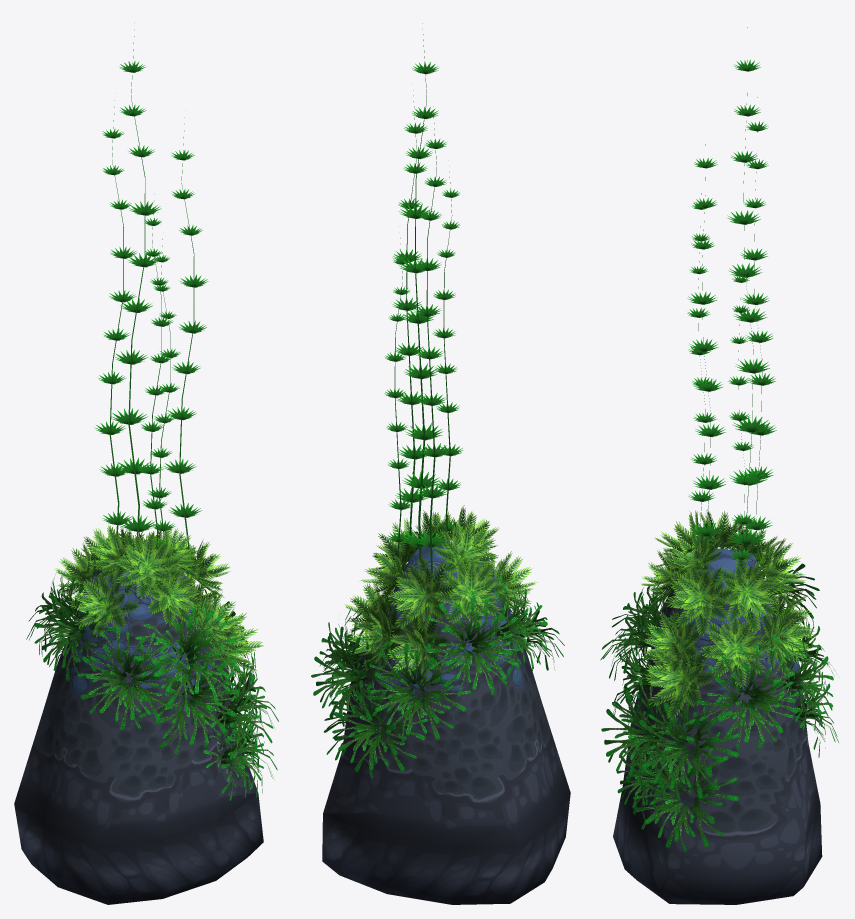
File: CoralSet_01.FBX
3 views of the same model, side by side, from view 1: azimuth 30°, elevation 25°; view 2: azimuth 150°, elevation 25°; view 3: azimuth 270°, elevation 25° (orthographic). The views are drawn at different scales.
Visible parts, largest first — view 1: Box022, CoralSet_01, Plane363, Plane365, Plane351, Plane362, Plane364, Plane349, Plane347, Plane343, Plane348, Plane358 (+4 smaller); view 2: Box022, CoralSet_01, Plane360, Plane359, Plane351, Plane352, Plane354, Plane347, Plane349, Plane364, Plane348, Plane350 (+2 smaller); view 3: Box022, CoralSet_01, Plane344, Plane345, Plane353, Plane343, Plane351, Plane349, Plane352, Plane347, Plane363, Plane348 (+7 smaller).
Part boxes in pixels (box(x1,y1,x2,y2)): Box022: box(14, 543, 263, 904); CoralSet_01: box(54, 525, 263, 678); Plane363: box(133, 605, 240, 712); Plane365: box(77, 626, 182, 730); Plane351: box(111, 29, 161, 535); Plane362: box(138, 644, 239, 755); Plane364: box(34, 577, 115, 681); Plane349: box(164, 117, 208, 575); Plane347: box(94, 100, 137, 536); Plane343: box(206, 665, 273, 768); Plane348: box(138, 200, 173, 549); Plane358: box(203, 721, 263, 800); Box022: box(322, 542, 570, 904); CoralSet_01: box(344, 505, 537, 684); Plane360: box(366, 639, 471, 742); Plane359: box(425, 591, 523, 696); Plane351: box(399, 23, 442, 561); Plane352: box(311, 620, 398, 726); Plane354: box(332, 680, 428, 778); Plane347: box(413, 106, 450, 578); Plane349: box(392, 90, 427, 559); Plane364: box(478, 576, 547, 681); Plane348: box(432, 171, 463, 532); Plane350: box(384, 238, 412, 577); Box022: box(613, 548, 822, 904); CoralSet_01: box(640, 509, 813, 720); Plane344: box(632, 696, 739, 801); Plane345: box(696, 644, 799, 749); Plane353: box(633, 746, 738, 852); Plane343: box(601, 676, 695, 789); Plane351: box(727, 27, 770, 559); Plane349: box(687, 144, 725, 588); Plane352: box(769, 630, 833, 730); Plane347: box(740, 97, 776, 562); Plane363: box(600, 587, 679, 680); Plane348: box(687, 193, 716, 543).
Size of the model in its own units: 332 by 1188 by 305.
